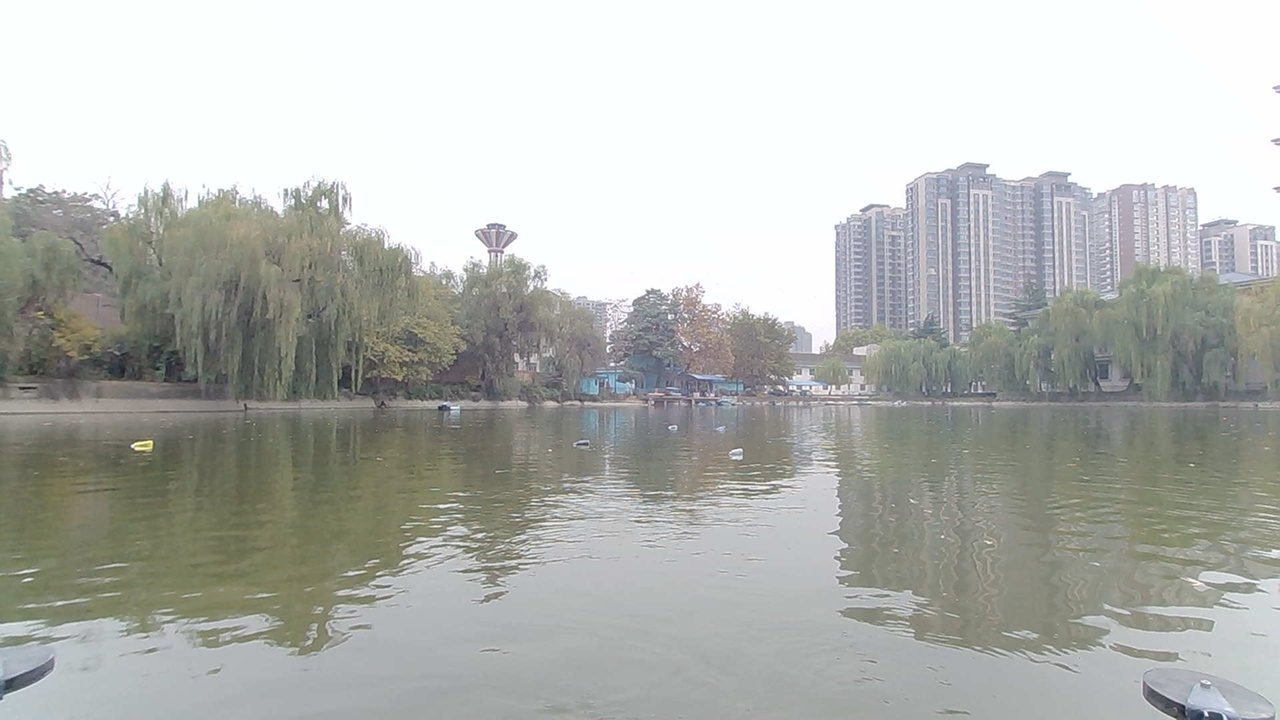bottle: (121, 428, 169, 460), (566, 432, 596, 454), (725, 442, 755, 463), (707, 418, 740, 435), (665, 415, 687, 434)
